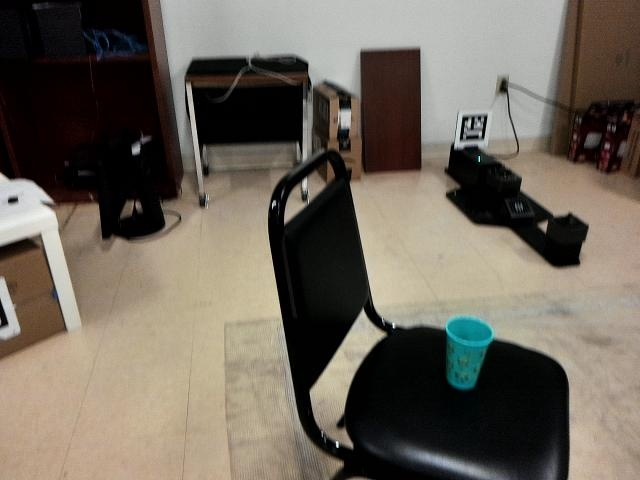coffee_cup: (446, 315, 492, 392)
